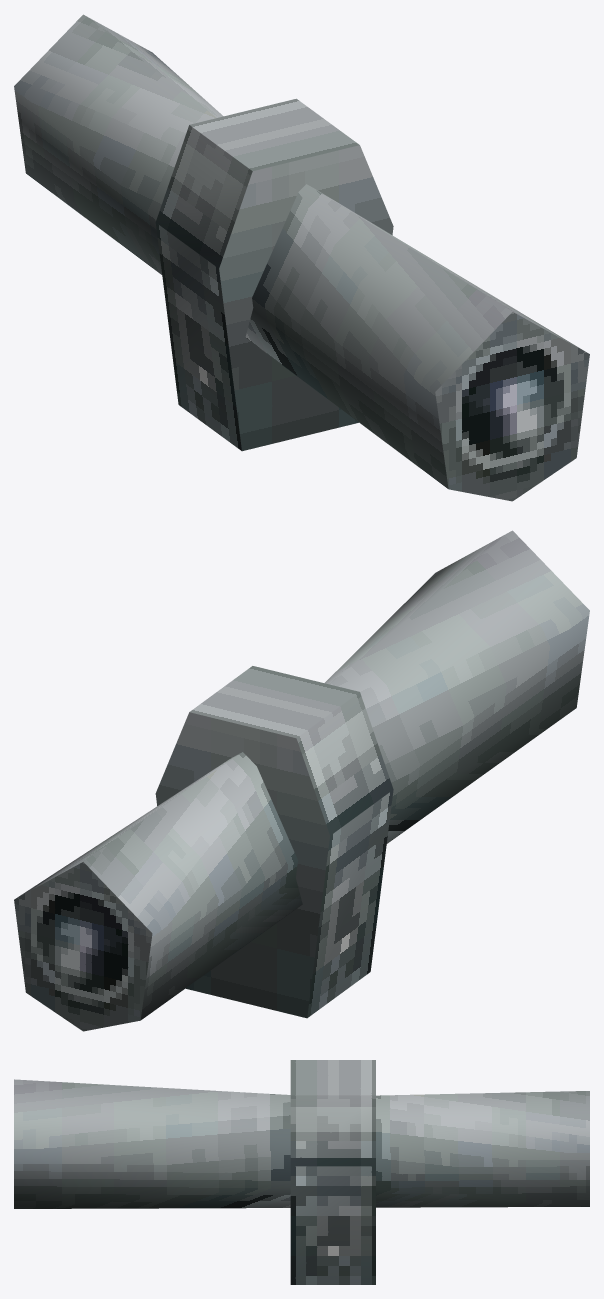
The model's file is wp_scope_sm_s06_l1.fbx.
The picture shows the model from 3 angles, top to bottom: view 1: azimuth 30°, elevation 25°; view 2: azimuth 150°, elevation 25°; view 3: azimuth 270°, elevation 25°; orthographic projection. The views are drawn at different scales.
Parts seen in each view (by area): view 1: mesh_node; view 2: mesh_node; view 3: mesh_node.
Part boxes in pixels (bbox=[...]): mesh_node: bbox=[14, 14, 589, 501]; mesh_node: bbox=[14, 530, 589, 1031]; mesh_node: bbox=[14, 1060, 589, 1284].
Size of the model in its own units: 0.0277 by 0.0421 by 0.118.
Materials: 1 (1 with a texture image).
